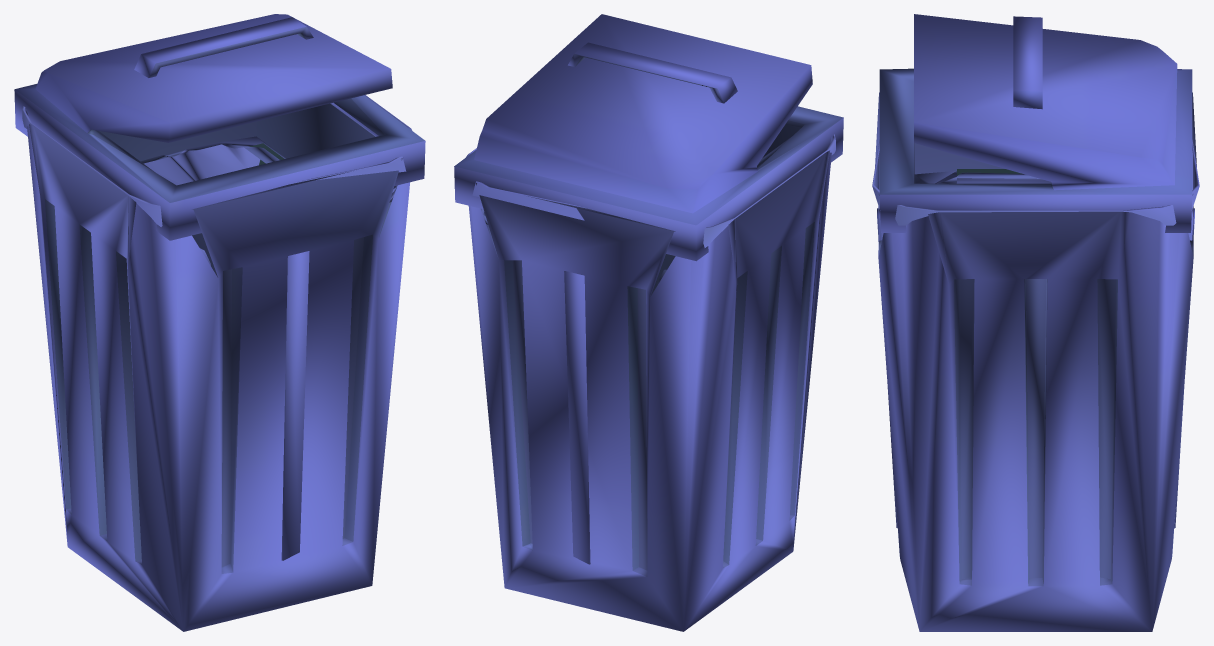
The model's file is model.progressive.glb.
3 renders of one model, left to right at view 1: azimuth 30°, elevation 25°; view 2: azimuth 150°, elevation 25°; view 3: azimuth 270°, elevation 25°, orthographic. The views are drawn at different scales.
Visible parts, largest first — view 1: material; view 2: material; view 3: material.
Boxes of the visible parts, x1,y1,x2,y2 form: material: [14, 14, 425, 631]; material: [454, 14, 843, 631]; material: [872, 14, 1199, 631].
Size of the model in its own units: 1.02 by 1.84 by 1.03.
1 material, 1 textured.
